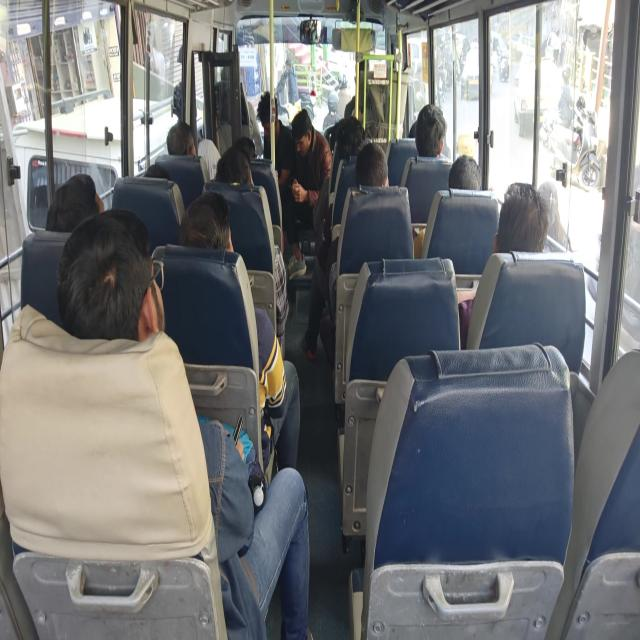person: (51, 219, 176, 354), (499, 177, 552, 249), (176, 199, 224, 264), (62, 171, 110, 236), (290, 109, 334, 154), (356, 145, 391, 199), (245, 92, 287, 134), (419, 94, 450, 150), (156, 121, 199, 161), (449, 155, 491, 190), (214, 153, 249, 192), (342, 123, 372, 157), (140, 160, 170, 191), (230, 128, 252, 153), (404, 110, 425, 135), (172, 77, 188, 104)
